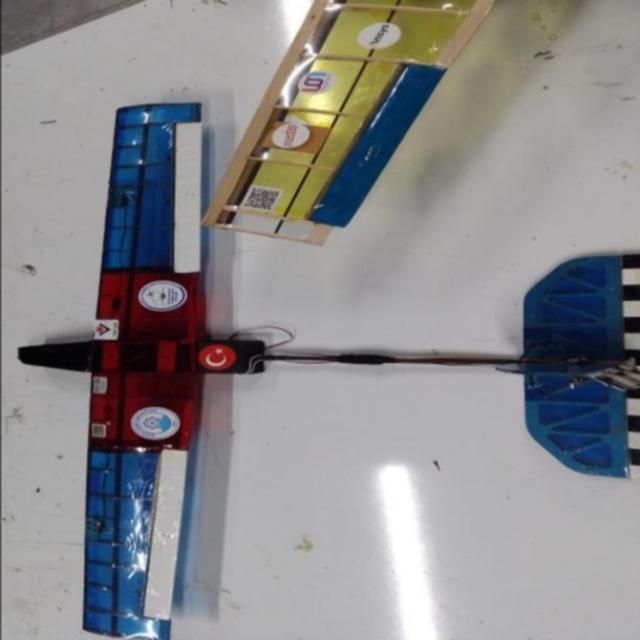plane: (13, 101, 640, 640)
